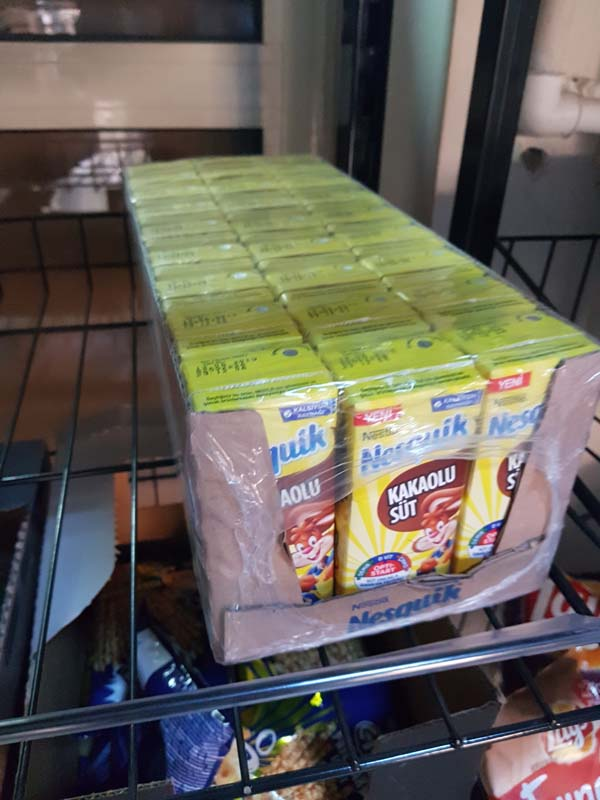nesquick200ml: (315, 329, 485, 607), (180, 346, 338, 614), (449, 313, 584, 581)
